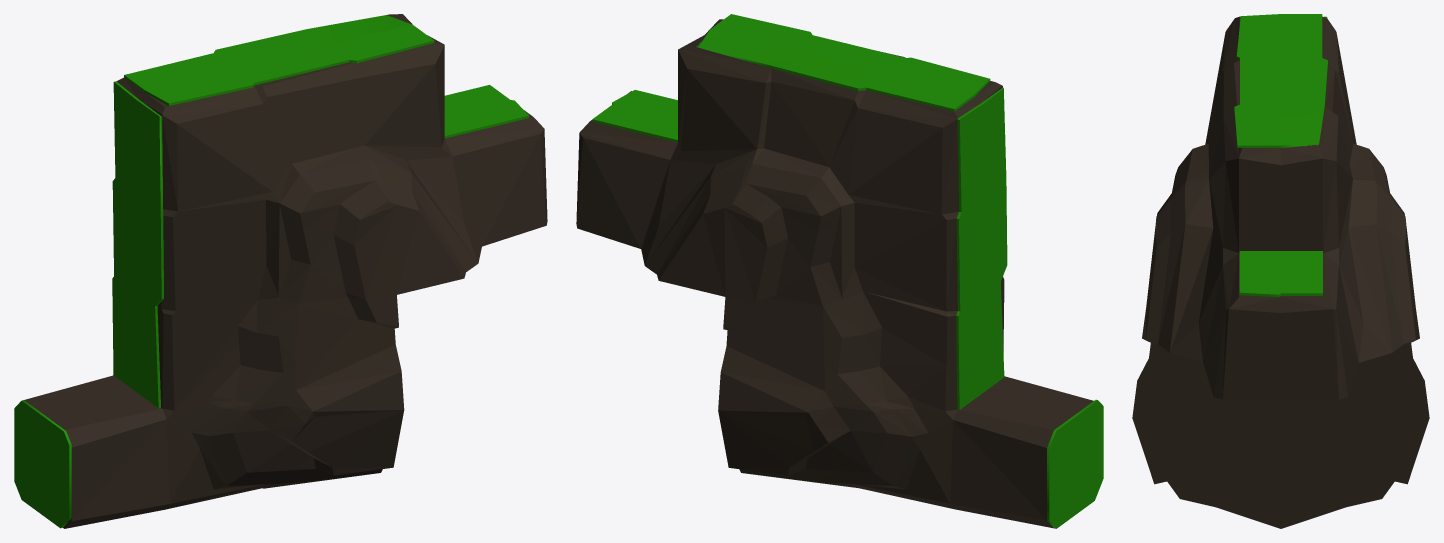
File: PiezaLV1.FBX
The picture shows the model from 3 angles, left to right: view 1: azimuth 30°, elevation 25°; view 2: azimuth 150°, elevation 25°; view 3: azimuth 270°, elevation 25°; orthographic projection.
Parts seen in each view (by area): view 1: Pieza, Cesped; view 2: Pieza, Cesped; view 3: Pieza, Cesped.
Boxes of the visible parts, x1=… form: Pieza: x1=24, y1=14, x2=547, y2=528; Cesped: x1=14, y1=15, x2=529, y2=528; Pieza: x1=576, y1=19, x2=1093, y2=528; Cesped: x1=592, y1=14, x2=1103, y2=528; Pieza: x1=1132, y1=16, x2=1429, y2=528; Cesped: x1=1234, y1=14, x2=1327, y2=296.
Size of the model in its own units: 198 by 167 by 106.
